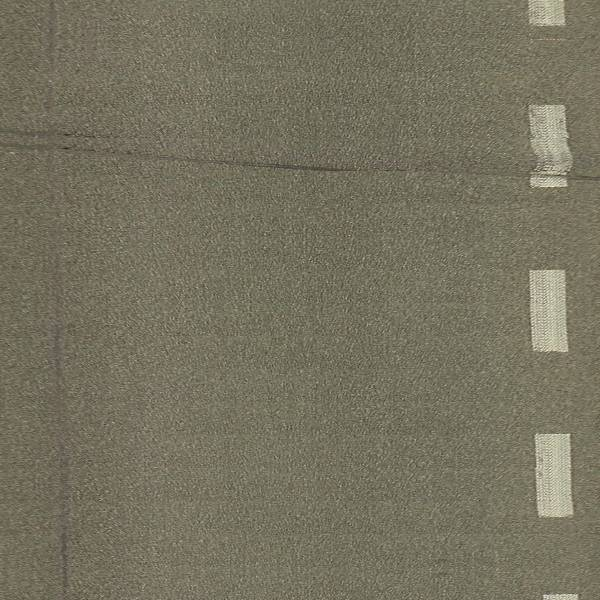road_damage: (26, 142, 515, 179), (53, 271, 76, 600), (537, 171, 600, 185)
